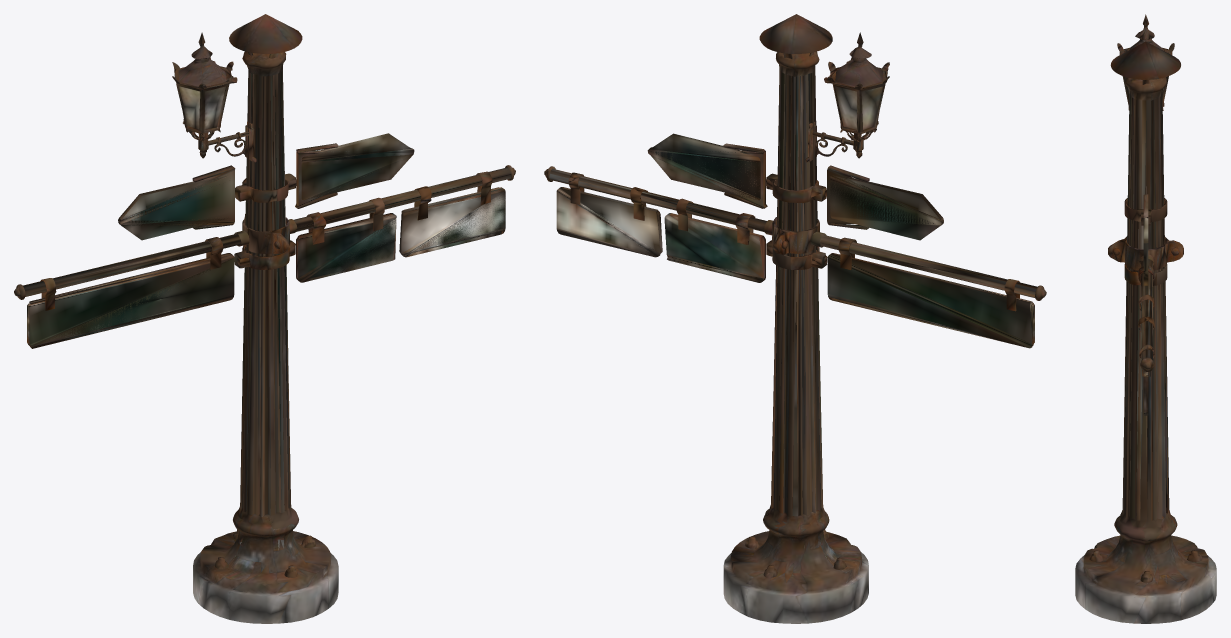
The model's file is pylon.glb.
The picture shows the model from 3 angles, left to right: view 1: azimuth 30°, elevation 25°; view 2: azimuth 150°, elevation 25°; view 3: azimuth 270°, elevation 25°; orthographic projection. The views are drawn at different scales.
Visible parts, largest first — view 1: geometry_0; view 2: geometry_0; view 3: geometry_0.
Part boxes in pixels (x1=…): geometry_0: x1=14, y1=14, x2=515, y2=623; geometry_0: x1=544, y1=14, x2=1046, y2=623; geometry_0: x1=1075, y1=14, x2=1216, y2=623.
Size of the model in its own units: 2.72 by 3 by 0.6946.
1 material, 1 textured.
